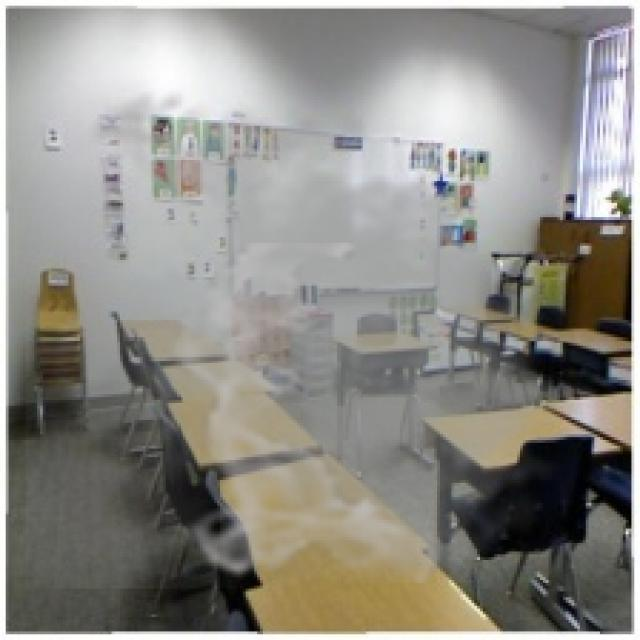Smoke: (26, 74, 583, 589)
